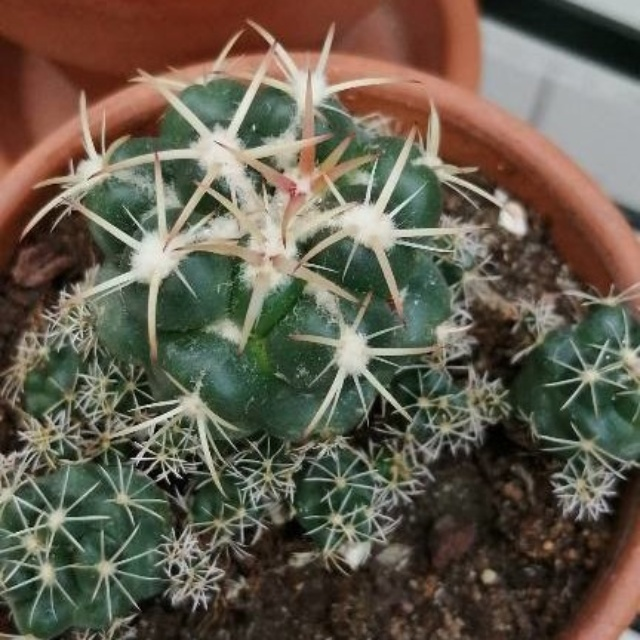obstacle: (33, 30, 622, 616)
